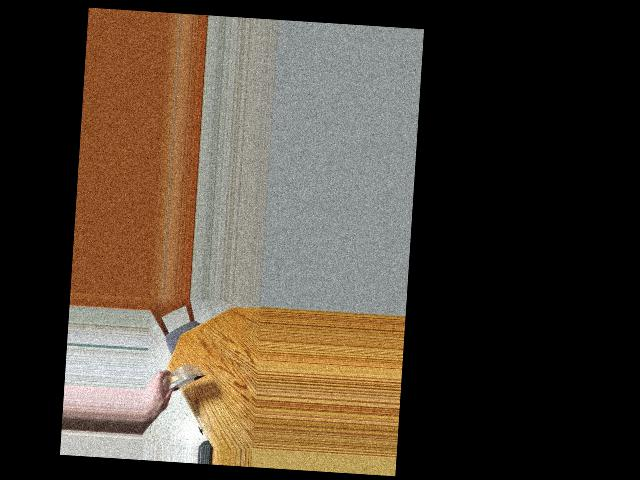cheese: (159, 362, 204, 393)
